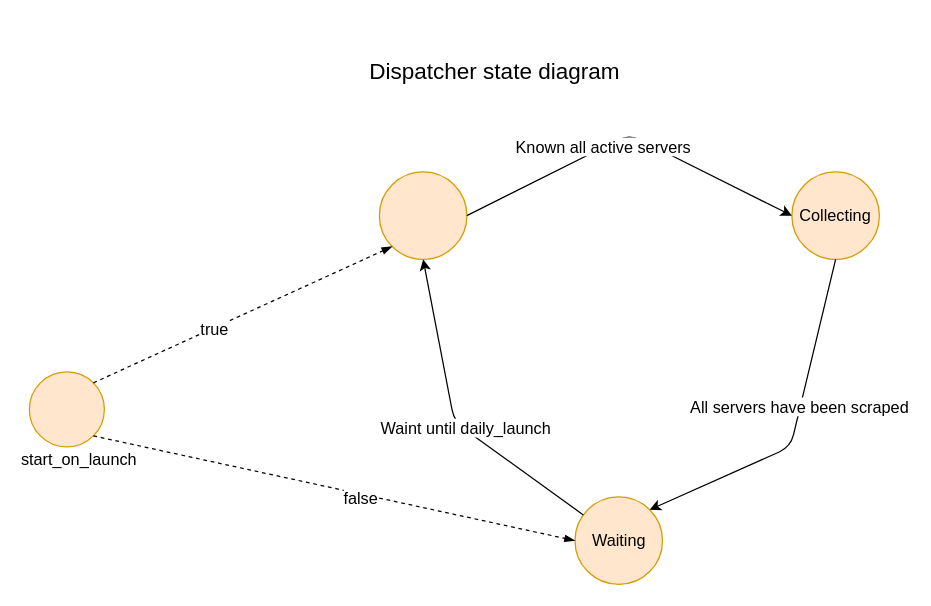
Image size: 931x606. Some labels were removed from this diagram. Each missing label, with the box of its shape:
Init: (28, 371, 104, 447)
Scraping: (378, 171, 467, 259)
